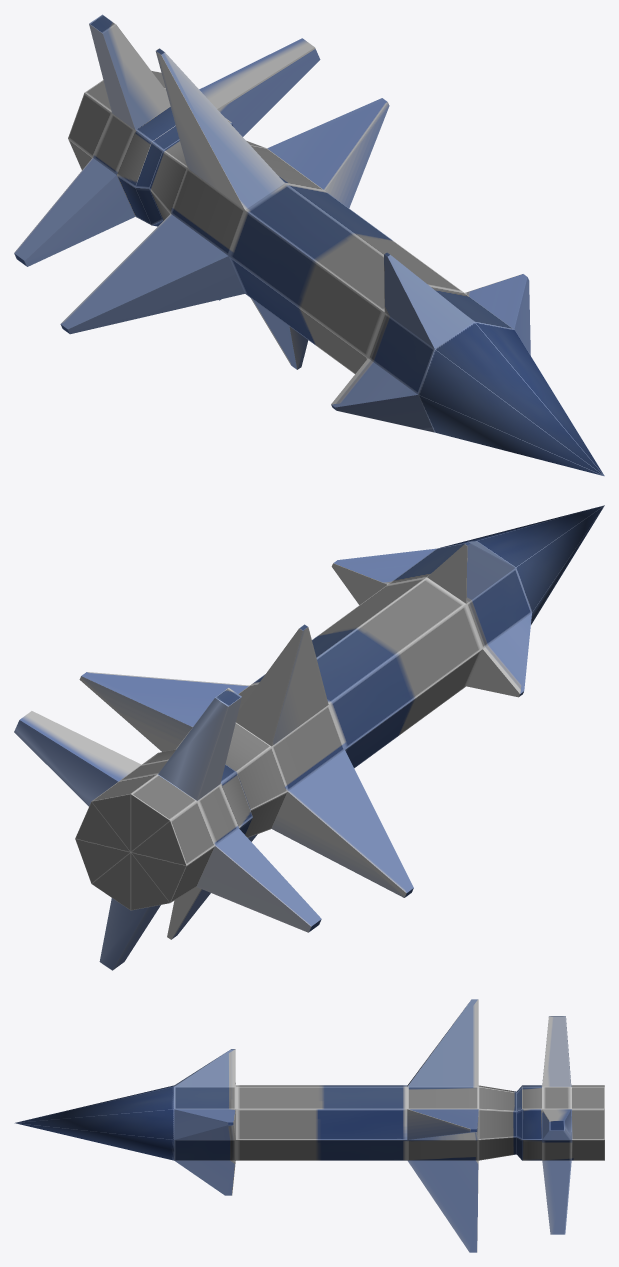
The model's file is HomingMissile.fbx.
The picture shows the model from 3 angles, top to bottom: view 1: azimuth 30°, elevation 25°; view 2: azimuth 150°, elevation 25°; view 3: azimuth 270°, elevation 25°; orthographic projection. The views are drawn at different scales.
Visible parts, largest first — view 1: pCylinder1; view 2: pCylinder1; view 3: pCylinder1.
Part boxes in pixels (x1,y1,x2,y2): pCylinder1: (14, 14, 604, 476); pCylinder1: (14, 505, 604, 970); pCylinder1: (14, 999, 604, 1252).
Size of the model in its own units: 4.89 by 4.97 by 12.43.
